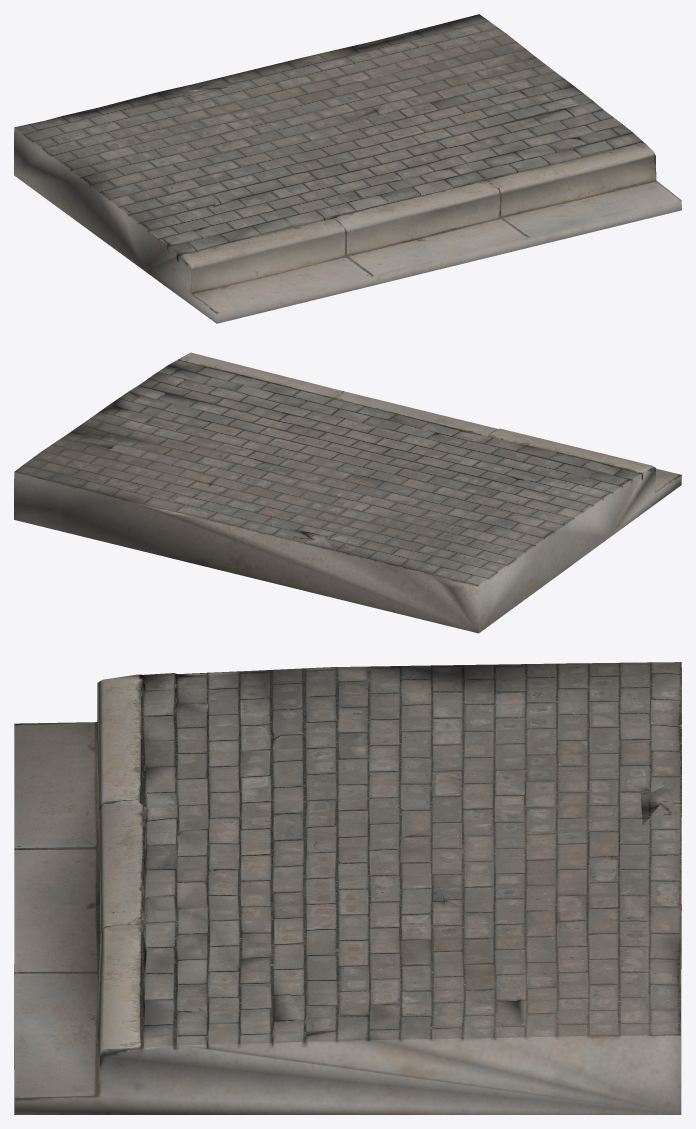
Rendered from PX_Sidewalk_05_LOD5.fbx.
3 views of the same model, one above another, from view 1: azimuth 30°, elevation 25°; view 2: azimuth 150°, elevation 25°; view 3: azimuth 270°, elevation 25° (orthographic). The views are drawn at different scales.
Parts seen in each view (by area): view 1: PX_Sidewalk_05_LOD5; view 2: PX_Sidewalk_05_LOD5; view 3: PX_Sidewalk_05_LOD5.
Part boxes in pixels (x1,y1,x2,y2): PX_Sidewalk_05_LOD5: [14, 14, 681, 323]; PX_Sidewalk_05_LOD5: [14, 352, 681, 633]; PX_Sidewalk_05_LOD5: [14, 662, 681, 1114].
Size of the model in its own units: 308 by 30.64 by 232.
